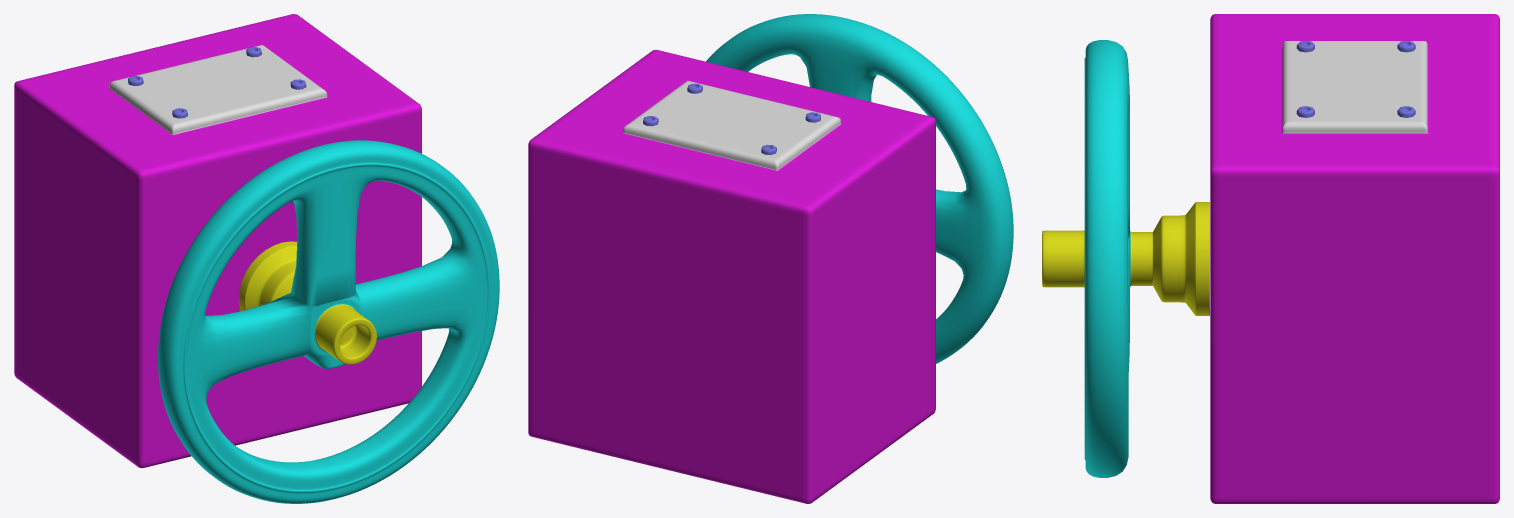
Rendered from IndustrialBox.fbx.
The picture shows the model from 3 angles, left to right: view 1: azimuth 30°, elevation 25°; view 2: azimuth 150°, elevation 25°; view 3: azimuth 270°, elevation 25°; orthographic projection. The views are drawn at different scales.
Visible parts, largest first — view 1: Industrial_Box; view 2: Industrial_Box; view 3: Industrial_Box.
Boxes of the visible parts, x1,y1,x2,y2 form: Industrial_Box: (14,14,499,503); Industrial_Box: (528,14,1013,503); Industrial_Box: (1042,14,1499,503).
Size of the model in its own units: 9.88 by 9.88 by 10.33.
